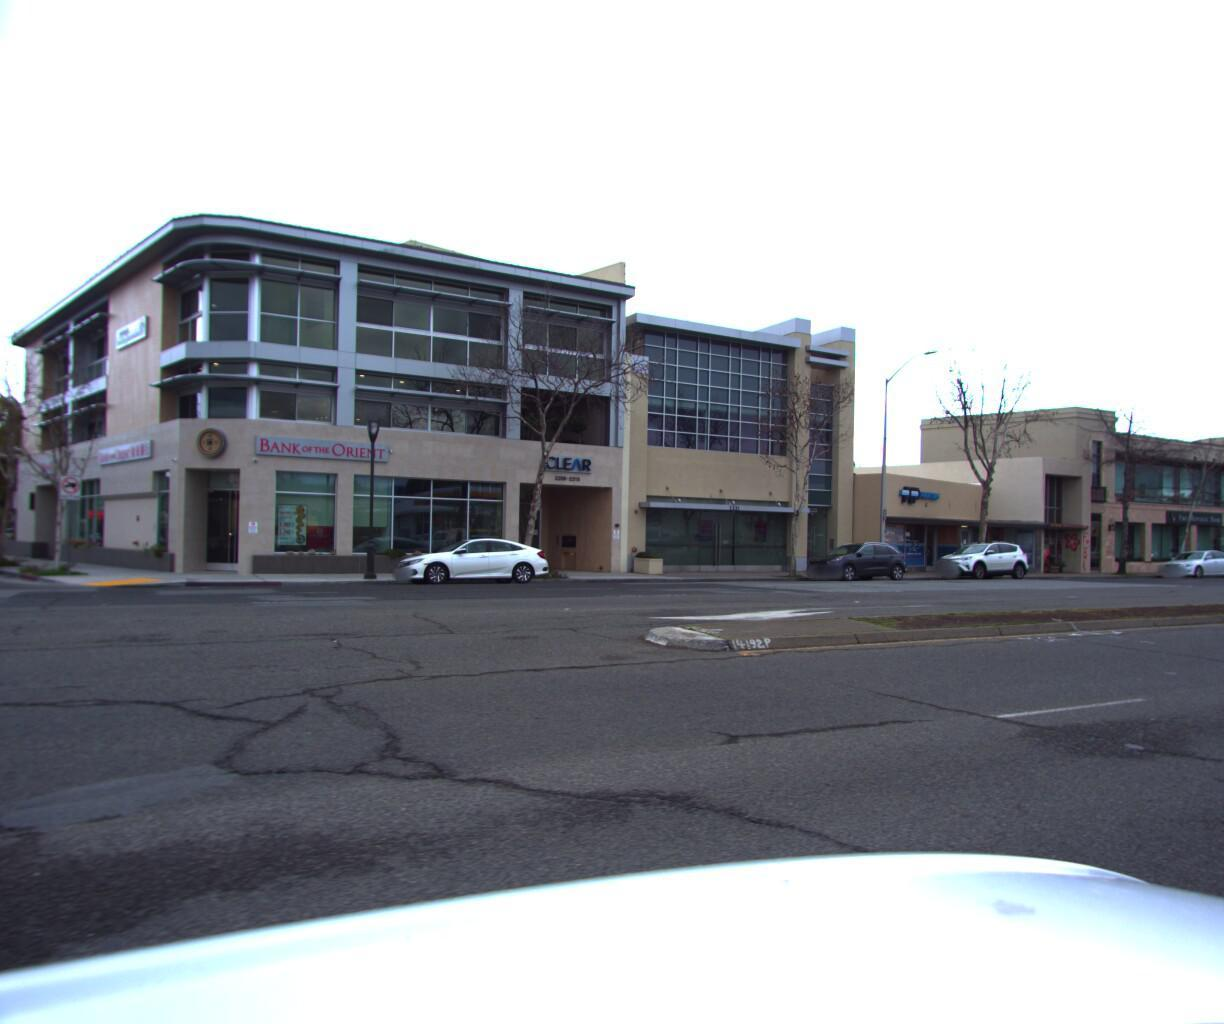car: (383, 530, 559, 586), (793, 537, 913, 580), (922, 534, 1034, 579), (1142, 541, 1224, 577), (1214, 545, 1224, 575)
